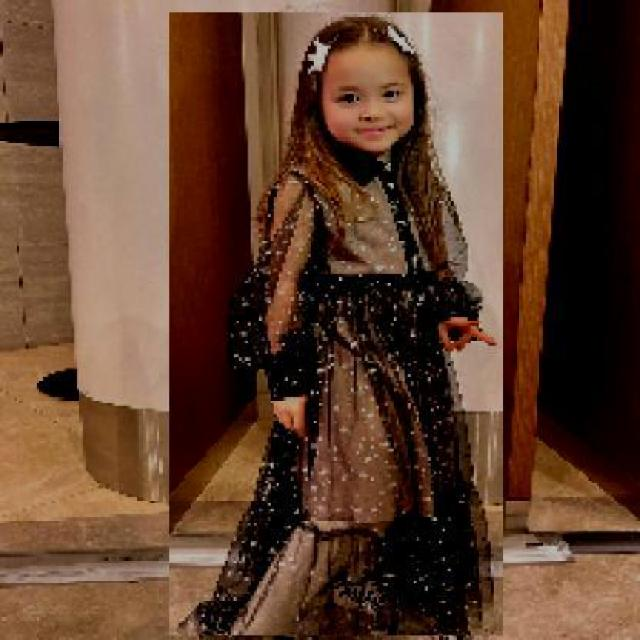child: (168, 12, 503, 637)
